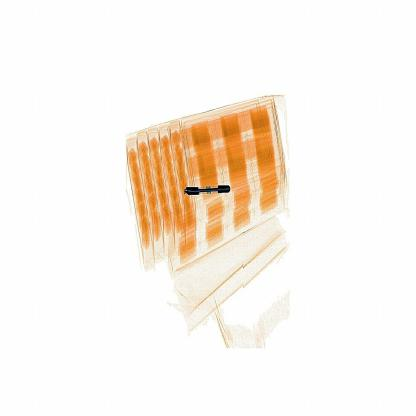knife: (185, 180, 236, 197)
